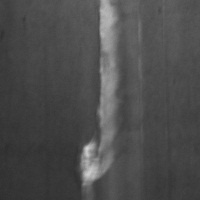scratches: (78, 1, 126, 196)
